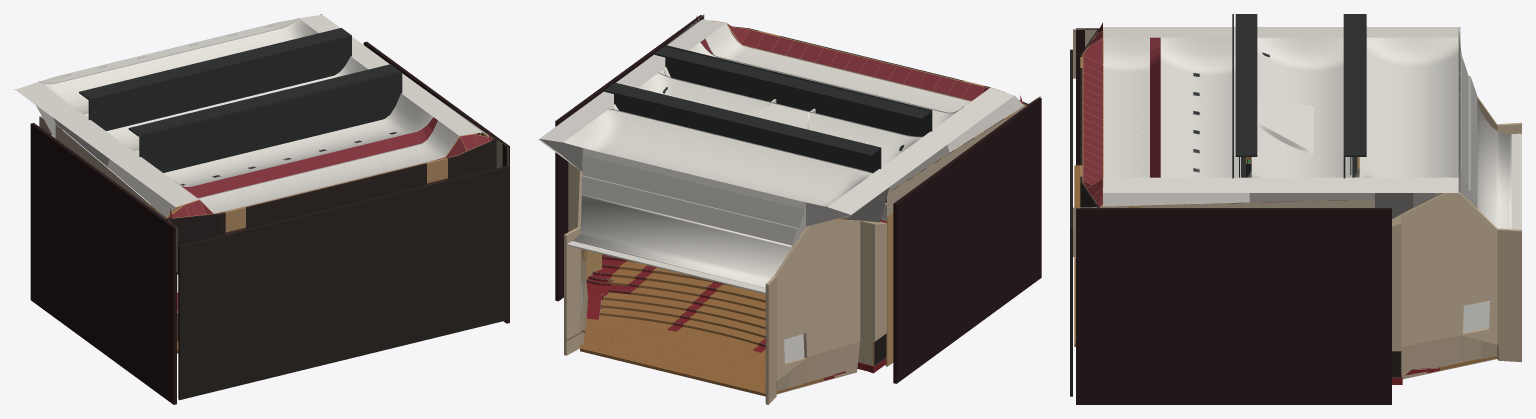
The model's file is hall.glb.
3 renders of one model, left to right at view 1: azimuth 30°, elevation 25°; view 2: azimuth 150°, elevation 25°; view 3: azimuth 270°, elevation 25°, orthographic. The views are drawn at different scales.
Visible parts, largest first — view 1: bake_ceiling, bake_lowroom, bake_walls; view 2: bake_ceiling, bake_walls, bake_floor1, bake_carpet, bake_hall_detail, bake_trim, bake_scrim; view 3: bake_walls, bake_ceiling, bake_lowroom, bake_scrim, bake_floor1, bake_hall_detail.
Part boxes in pixels (bbox=[...]): bake_ceiling: bbox=[14, 14, 494, 218]; bake_lowroom: bbox=[177, 165, 509, 400]; bake_walls: bbox=[30, 41, 509, 404]; bake_ceiling: bbox=[538, 16, 1026, 287]; bake_walls: bbox=[555, 14, 1041, 404]; bake_floor1: bbox=[580, 218, 855, 396]; bake_carpet: bbox=[586, 219, 886, 380]; bake_hall_detail: bbox=[582, 61, 918, 209]; bake_trim: bbox=[586, 150, 954, 362]; bake_scrim: bbox=[581, 279, 804, 362]; bake_walls: bbox=[1073, 28, 1521, 404]; bake_ceiling: bbox=[1082, 14, 1511, 229]; bake_lowroom: bbox=[1070, 49, 1072, 396]; bake_scrim: bbox=[1463, 300, 1490, 332]; bake_floor1: bbox=[1074, 165, 1497, 370]; bake_hall_detail: bbox=[1135, 48, 1461, 172].
Size of the model in its own units: 29.86 by 17.64 by 31.45.
66 materials, 6 textured.
